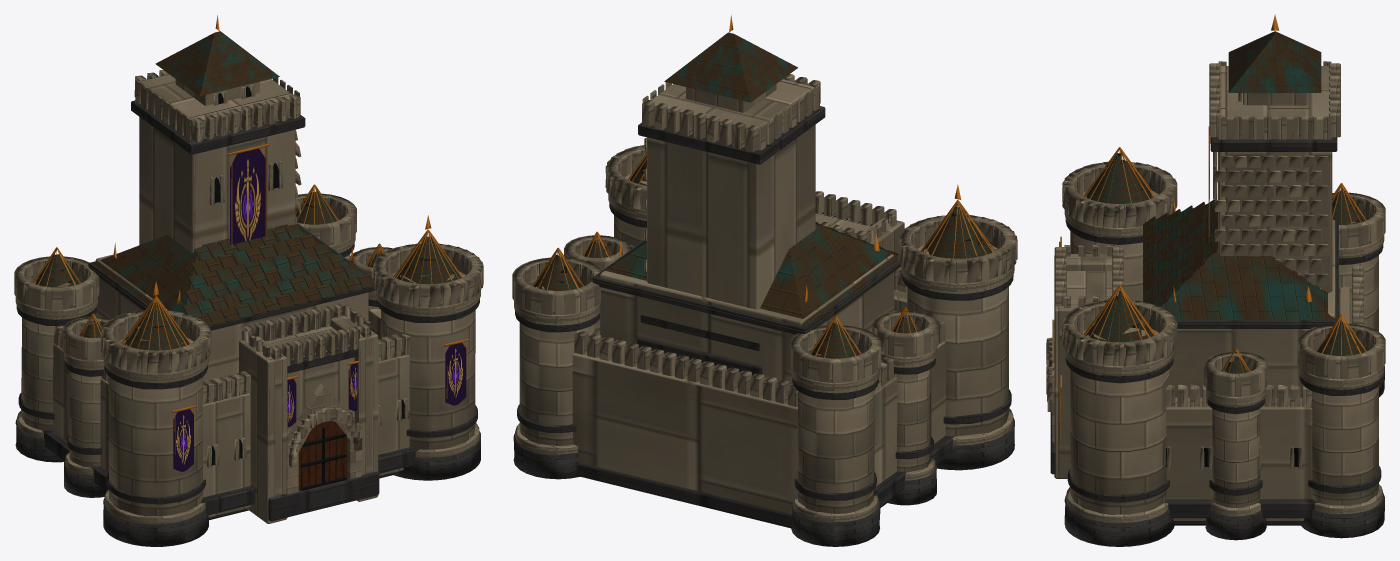
Rendered from hegemony-main-castle-compact.glb.
The picture shows the model from 3 angles, left to right: view 1: azimuth 30°, elevation 25°; view 2: azimuth 150°, elevation 25°; view 3: azimuth 270°, elevation 25°; orthographic projection. The views are drawn at different scales.
Visible parts, largest first — view 1: WK_Hegemony_Hero_Castle_LOD0_High; view 2: WK_Hegemony_Hero_Castle_LOD0_High; view 3: WK_Hegemony_Hero_Castle_LOD0_High.
Part boxes in pixels (x1,y1,x2,y2): WK_Hegemony_Hero_Castle_LOD0_High: [14, 15, 483, 546]; WK_Hegemony_Hero_Castle_LOD0_High: [512, 15, 1017, 546]; WK_Hegemony_Hero_Castle_LOD0_High: [1046, 14, 1385, 546].
Bounding box in the file's own units: 12.78 × 14.06 × 9.82.
Materials: 1 (1 with a texture image).
